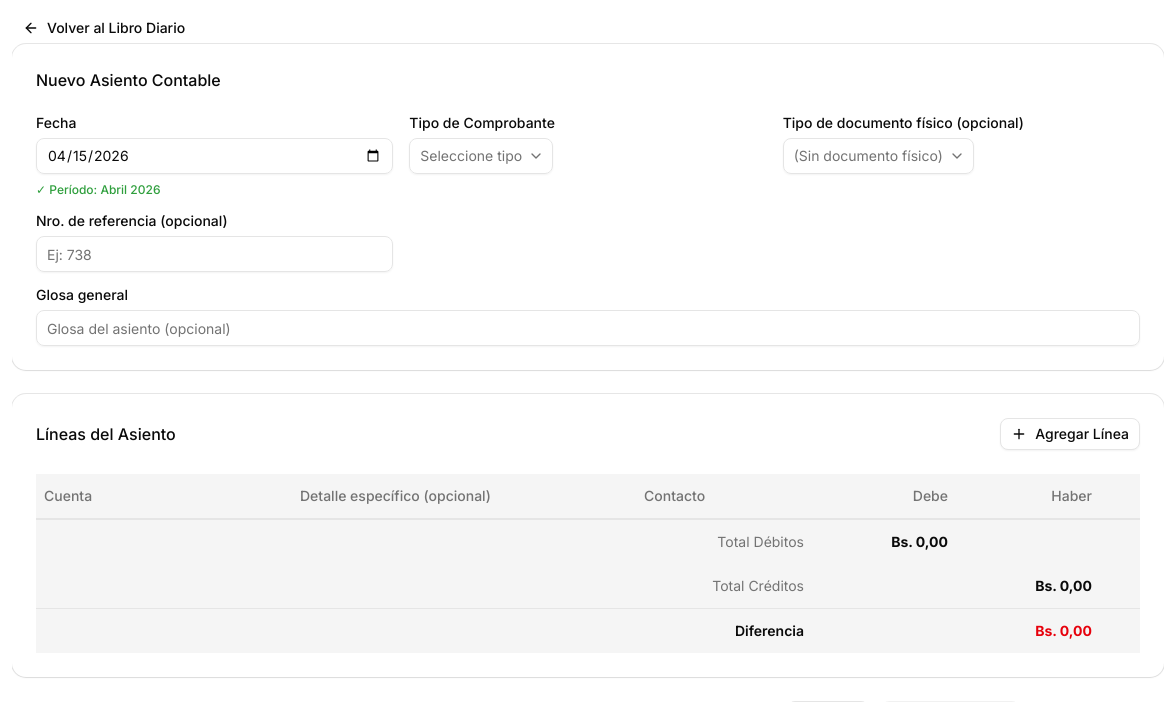
Test: JF-T04 — Uncovered date shows warning banner and disables submit › warning banner with role=alert is visible when date is not covered by any OPEN period
Type "2026-06-15" into the date field labelled "Fecha" at (215, 156), box x1=36 y1=138 x2=393 y2=174
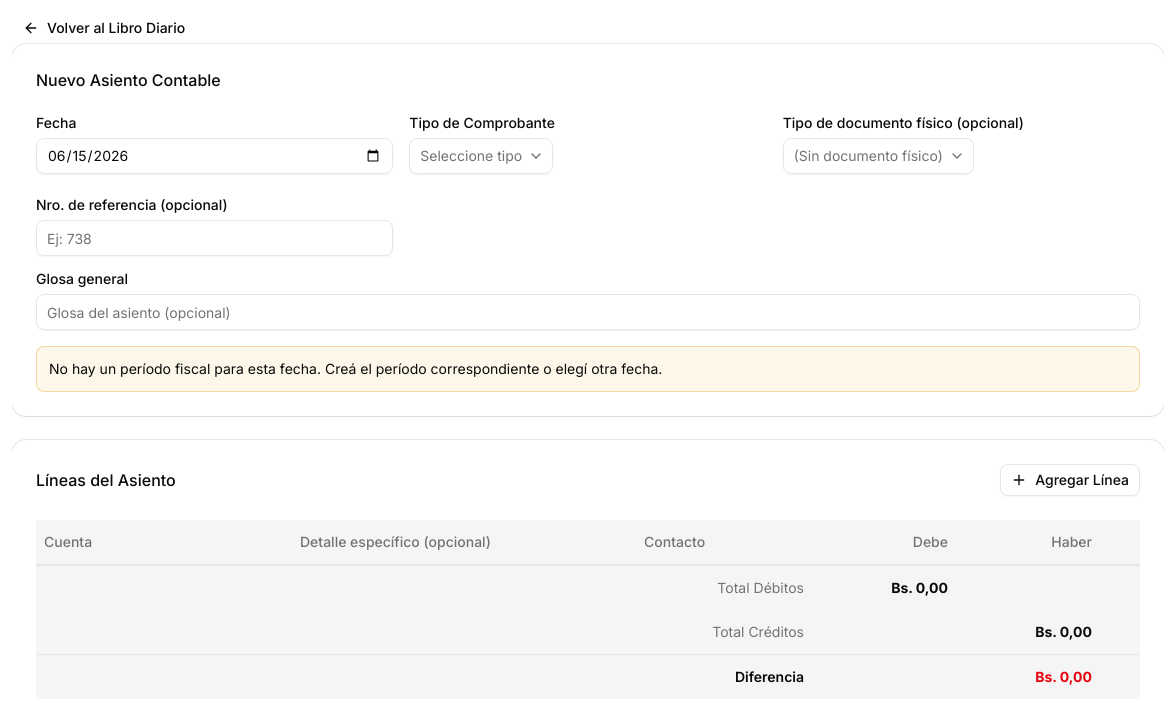
Now the message is shown, box x1=36 y1=346 x2=1140 y2=392
Now the message shows "No hay un período fiscal para esta fecha", box x1=49 y1=360 x2=662 y2=377
